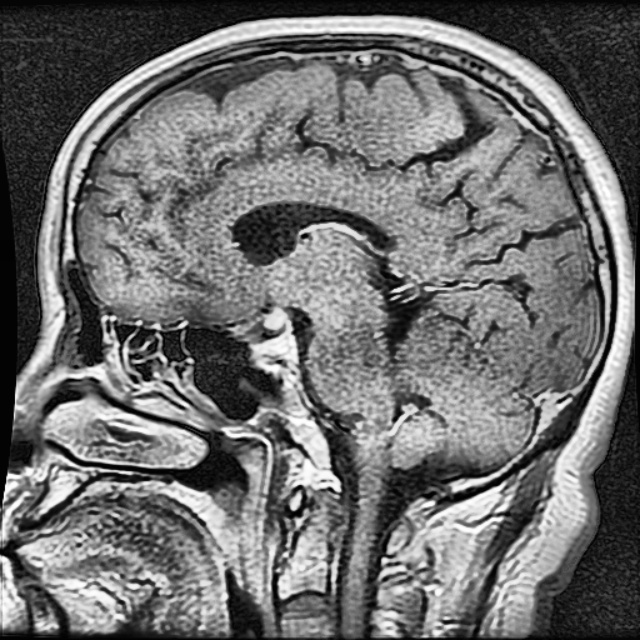Pituitary: (250, 308, 297, 365)
